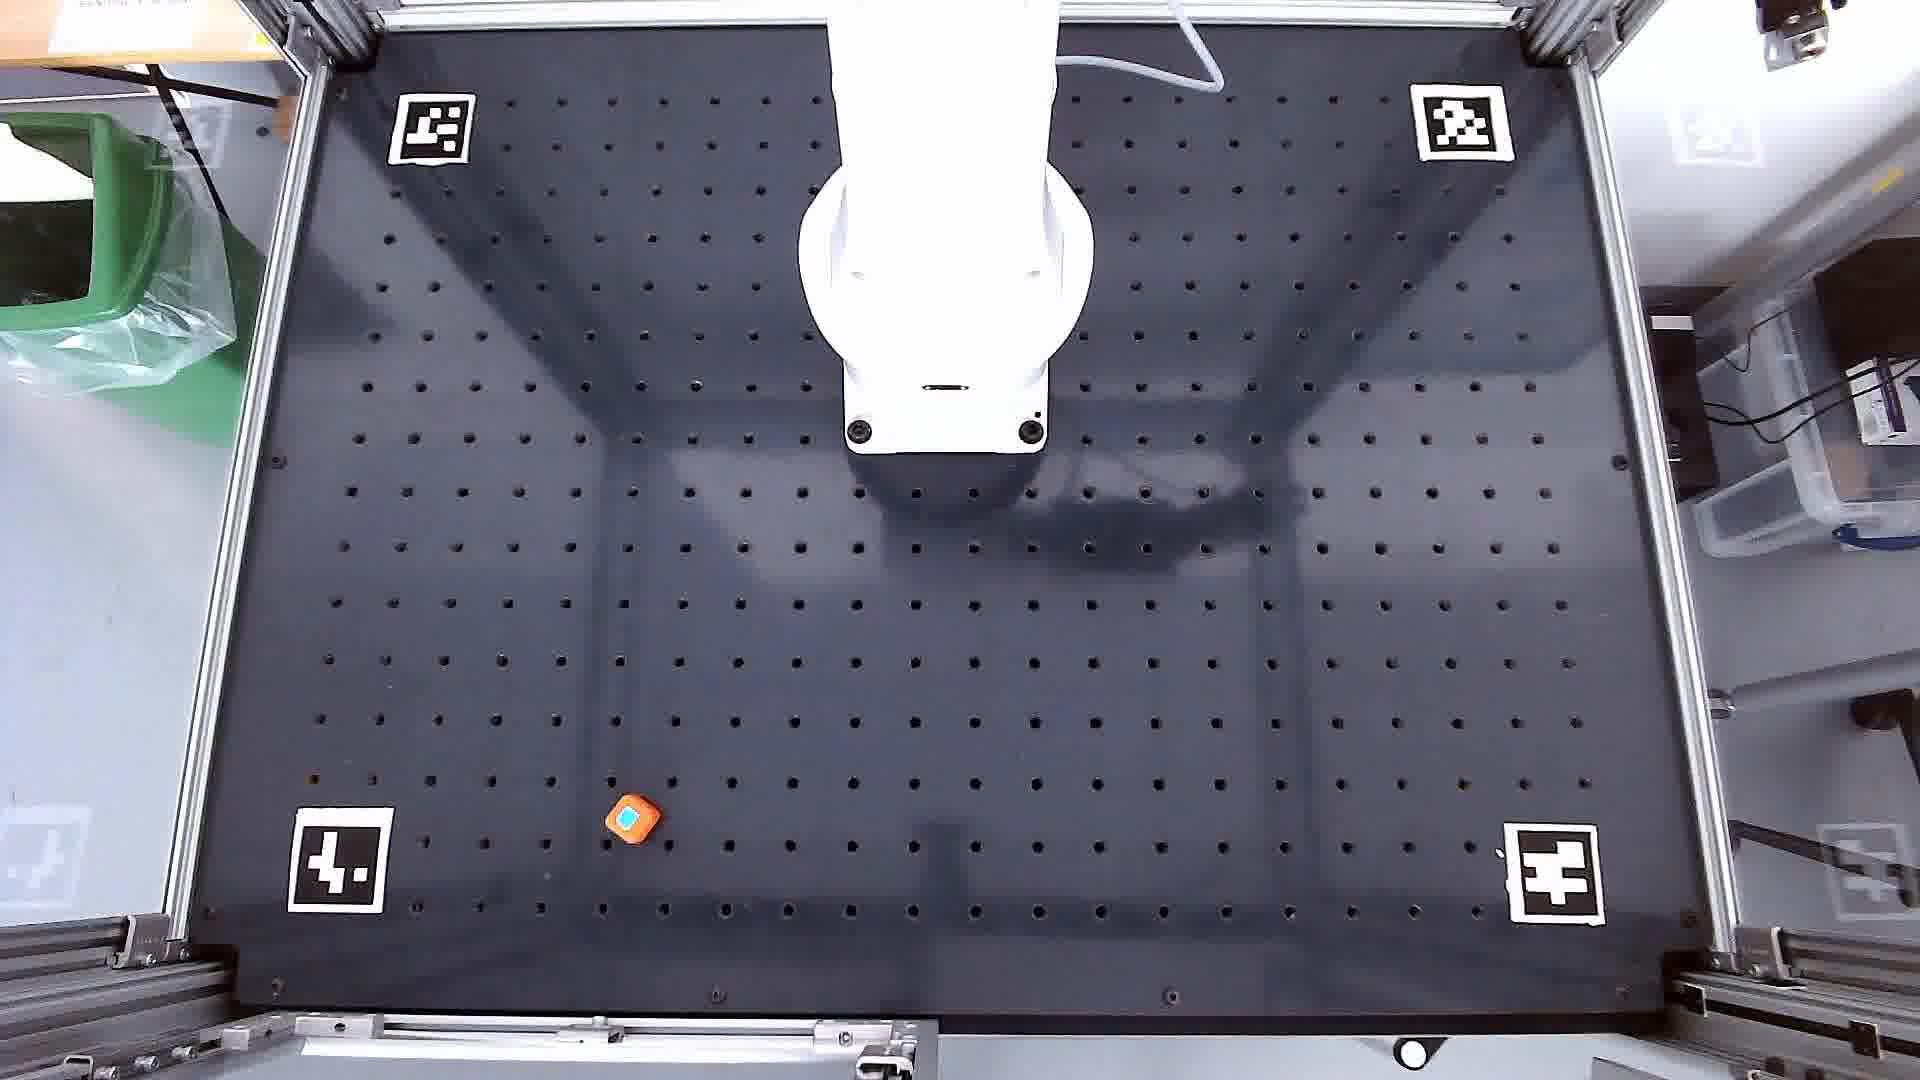blue: (611, 802, 642, 835)
sticker: (601, 783, 666, 848)
